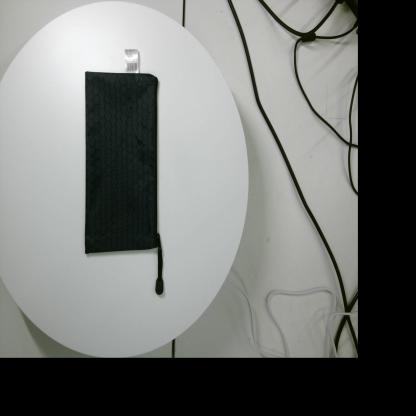Stationery: (84, 49, 164, 295)
